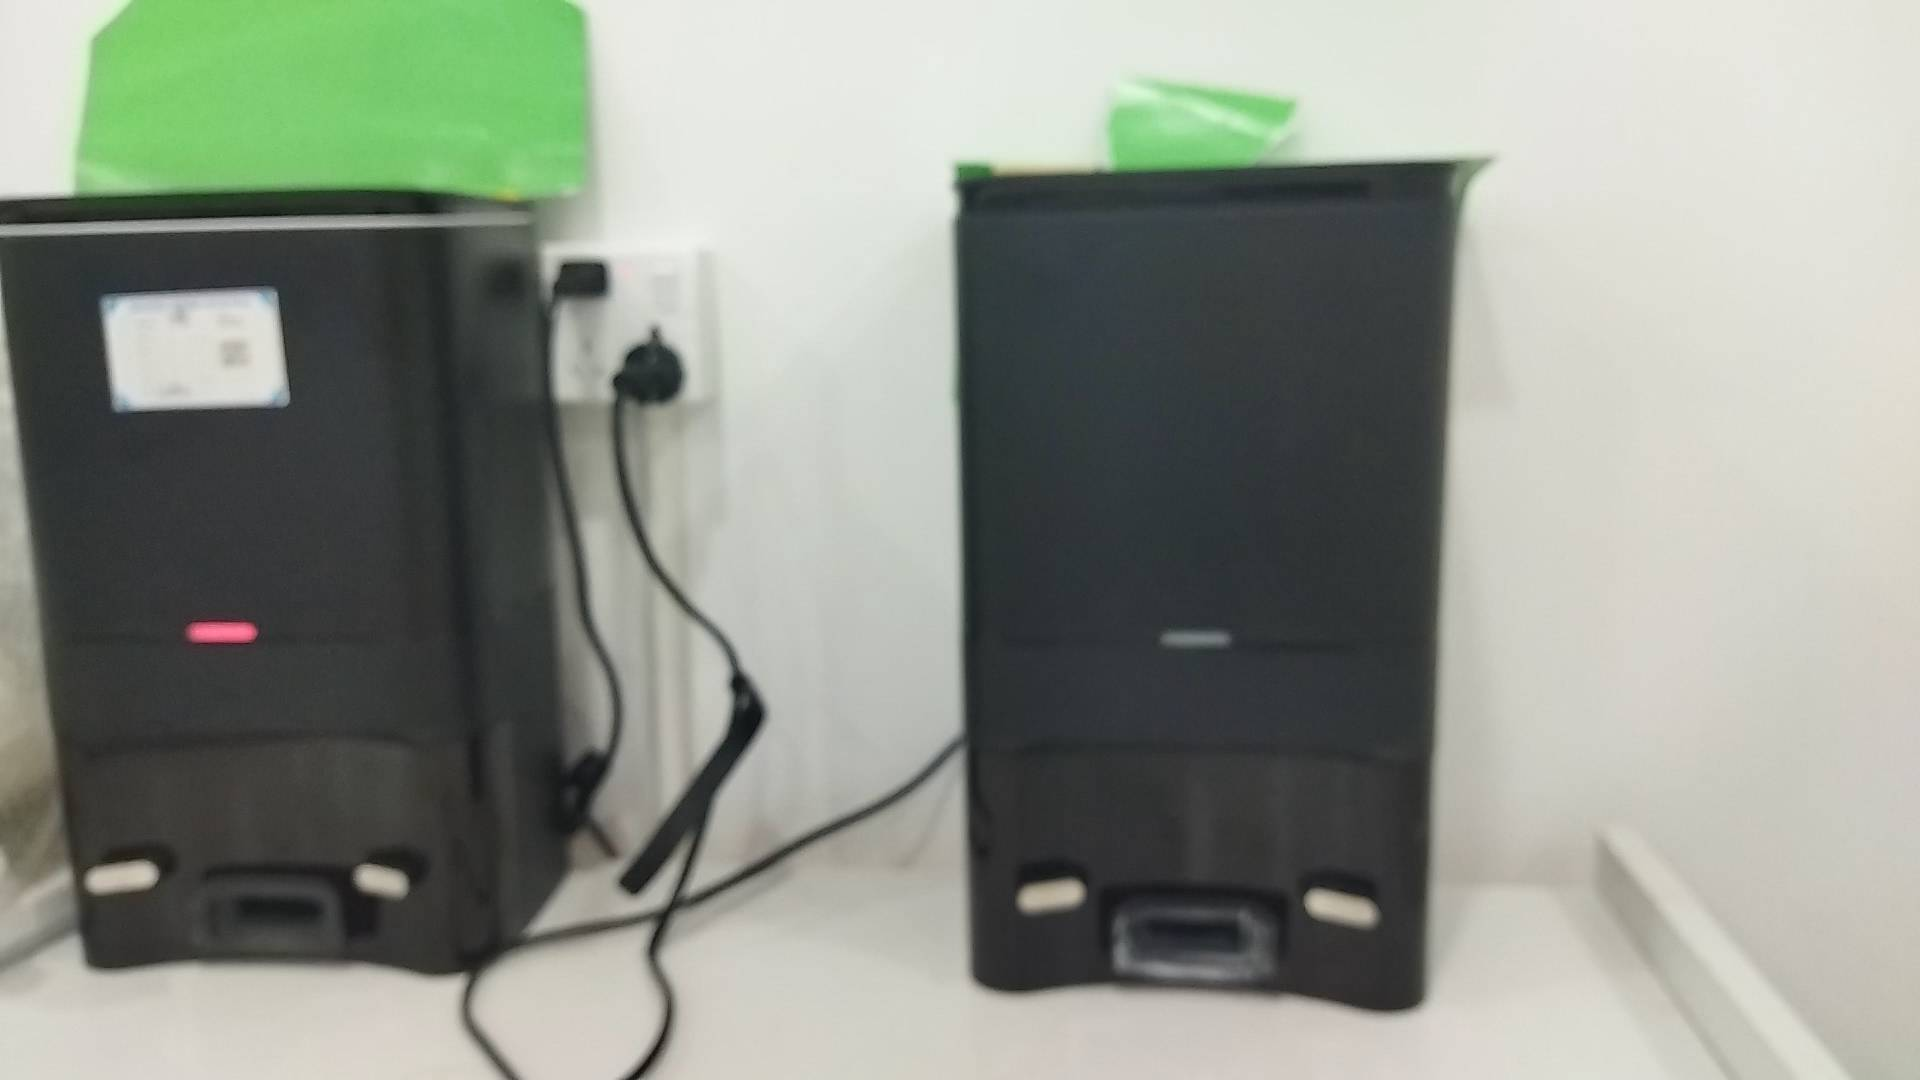dust collecting barrel: (957, 160, 1494, 1014), (1, 186, 568, 977)
